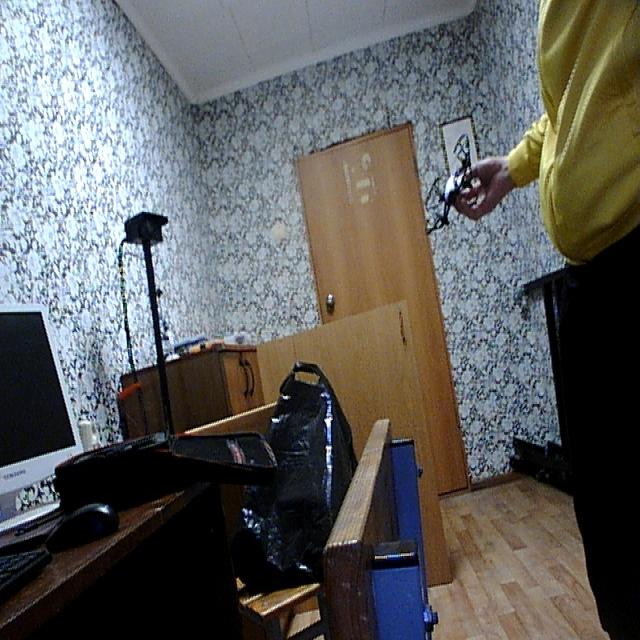drone: (414, 134, 491, 238)
